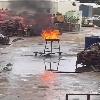fire: (40, 29, 60, 39)
